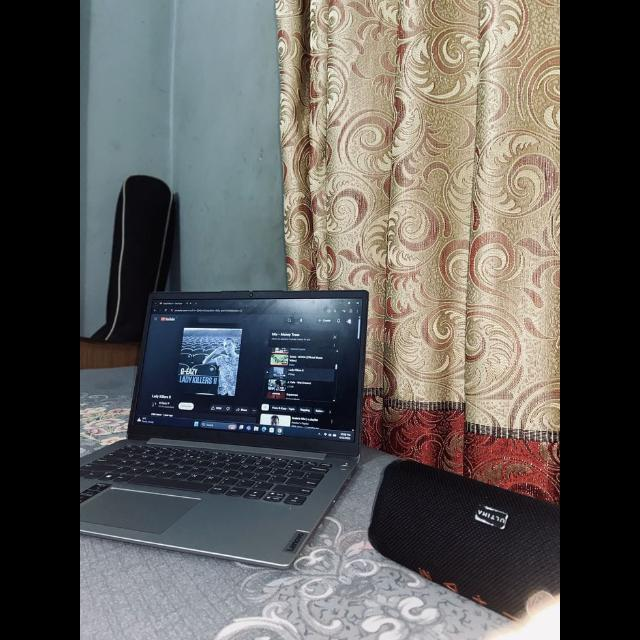laptop: (80, 290, 366, 566)
